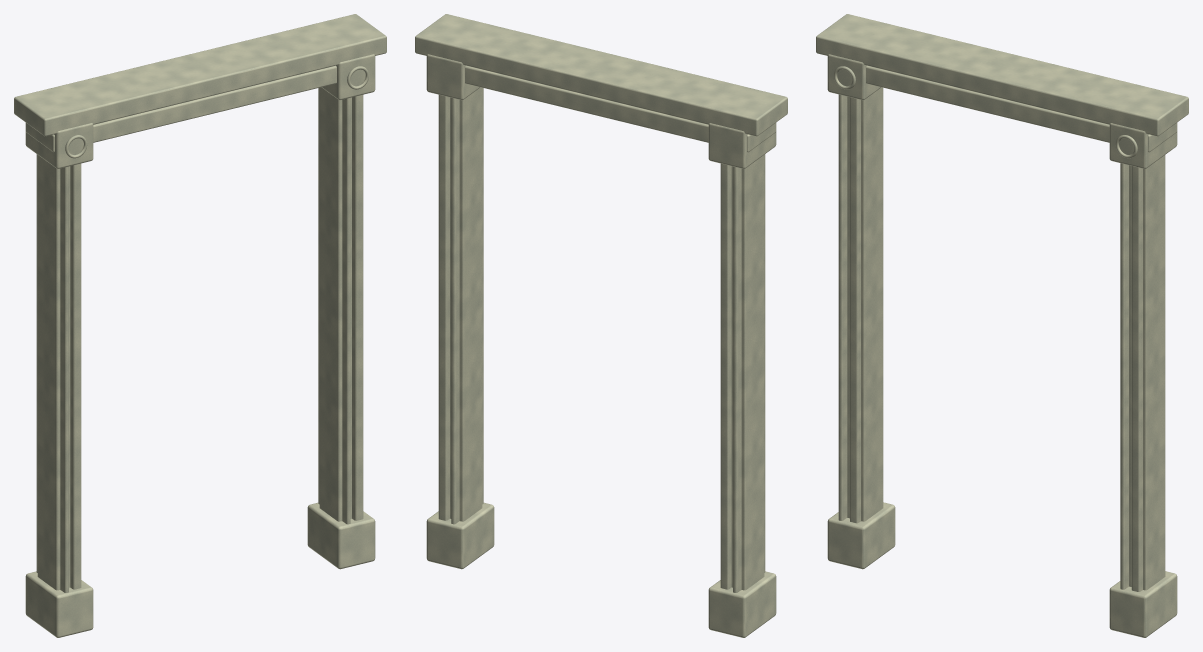
The model's file is DoorCasing.fbx.
3 views of the same model, side by side, from view 1: azimuth 30°, elevation 25°; view 2: azimuth 150°, elevation 25°; view 3: azimuth 330°, elevation 25° (orthographic).
Parts seen in each view (by area): view 1: DoorCasing_Enamel; view 2: DoorCasing_Enamel; view 3: DoorCasing_Enamel.
Part boxes in pixels (x1=…): DoorCasing_Enamel: x1=14, y1=14, x2=386, y2=637; DoorCasing_Enamel: x1=415, y1=14, x2=787, y2=637; DoorCasing_Enamel: x1=816, y1=14, x2=1188, y2=637.
Size of the model in its own units: 202 by 294 by 34.4.
